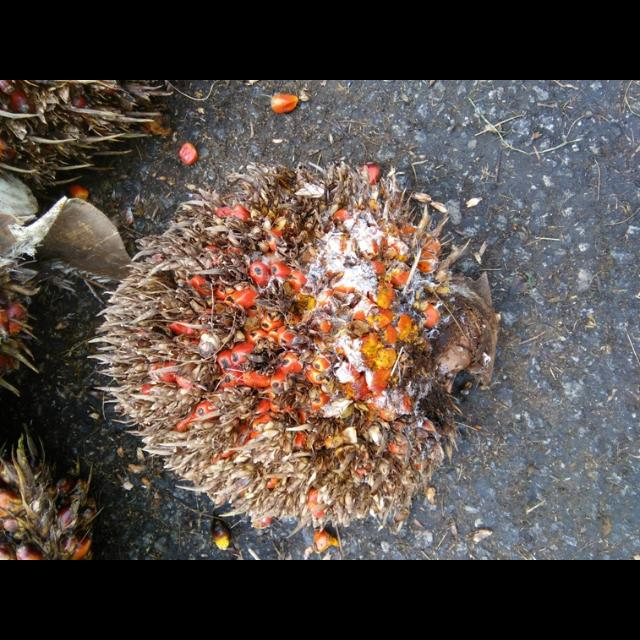Overripe: (102, 164, 500, 531)
